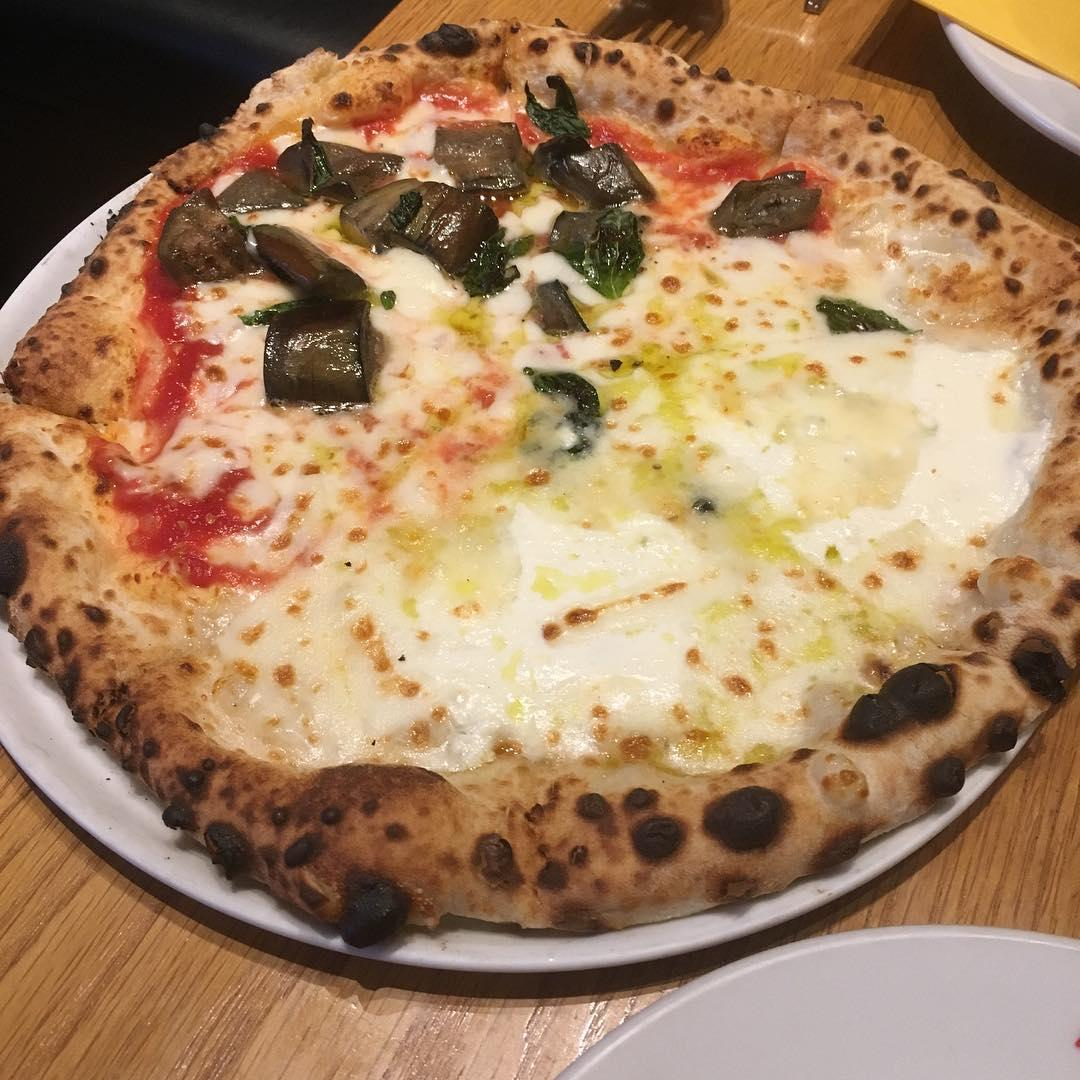Basil: (526, 369, 597, 456), (466, 212, 515, 298), (594, 214, 643, 295), (529, 79, 586, 141), (818, 295, 902, 337)
Cheese: (289, 545, 797, 729), (621, 339, 993, 540), (221, 403, 521, 533), (391, 307, 524, 398), (661, 253, 816, 326)
Pizza: (0, 27, 1080, 927)
